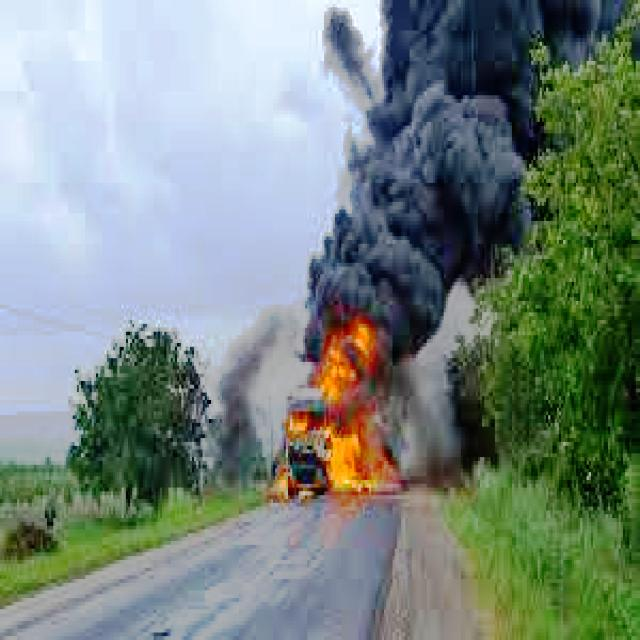api: (265, 321, 415, 504)
